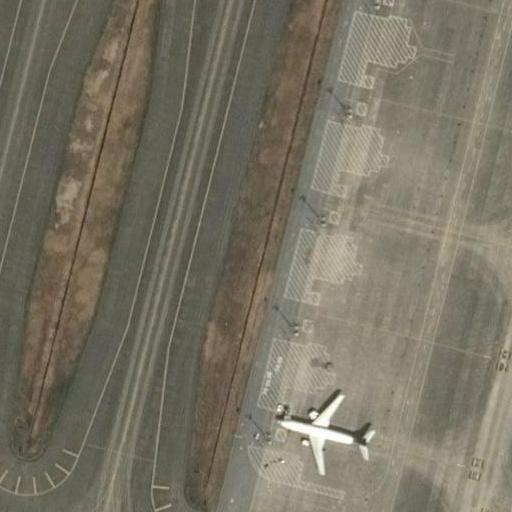Aircraft: (269, 385, 382, 475)
